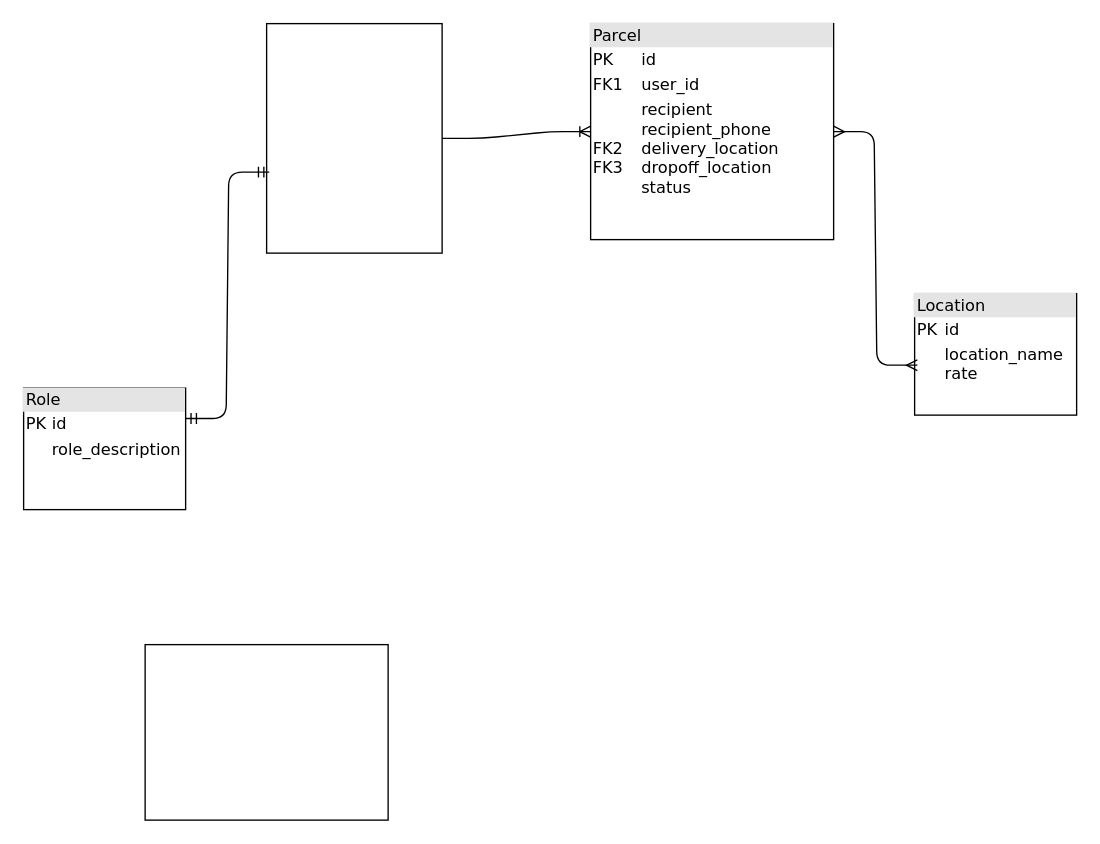
The diagram is 1100 pixels wide and 844 high, and some of its shapes have lost their labels. Here are the shapes that lost their labels. From the top down, the box of each, then its label:
(265, 22, 442, 253): User PK id first_name last_name FK1 email password role_id
(144, 643, 388, 820): Tablename PK uniqueId FK1 foreignKey fieldname fieldname fieldname fieldname
